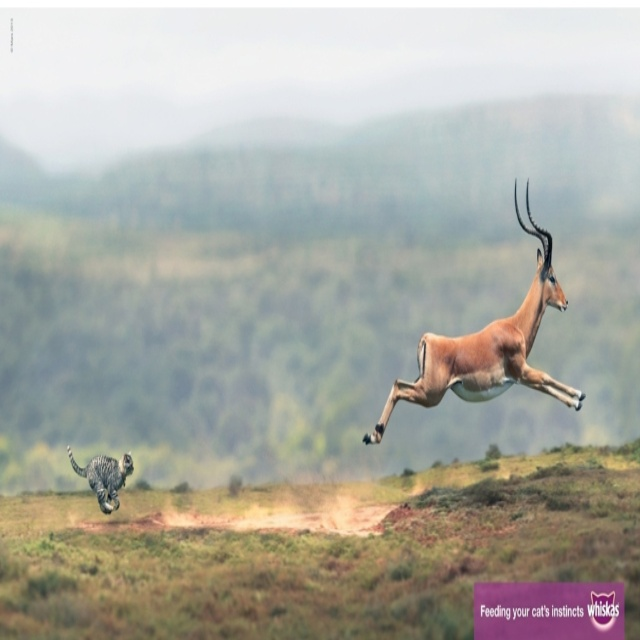Deer: (365, 175, 584, 444)
